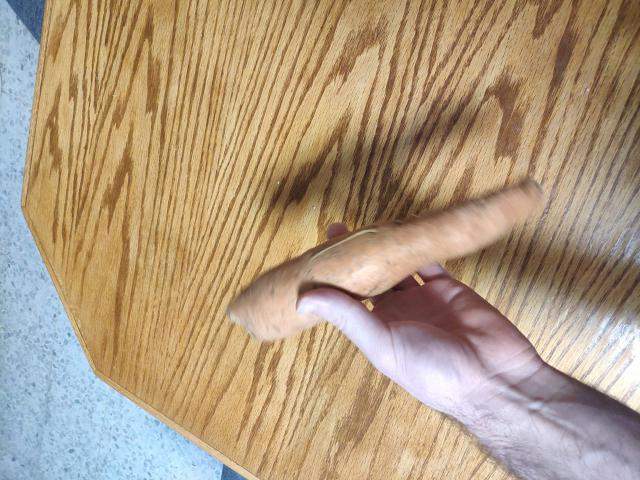sweet_potato: (216, 201, 544, 303)
